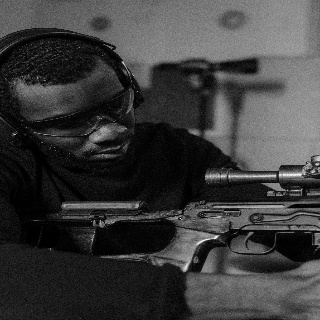rifle: (27, 154, 320, 276)
